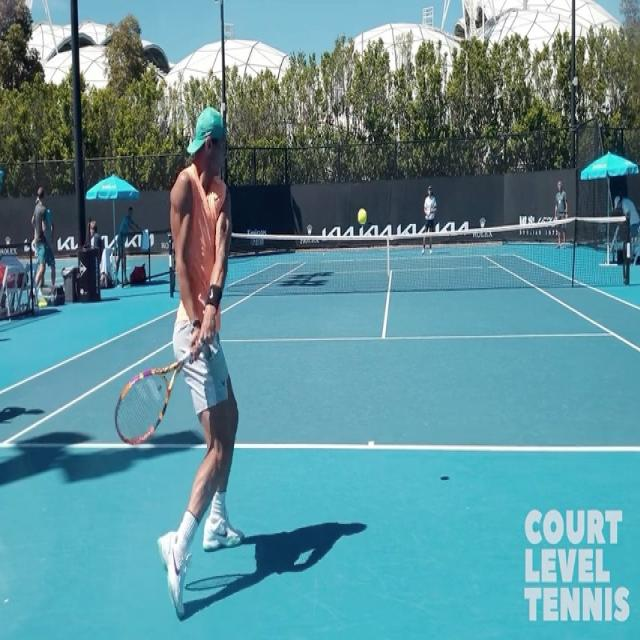backhand-stroke: (109, 103, 242, 610)
